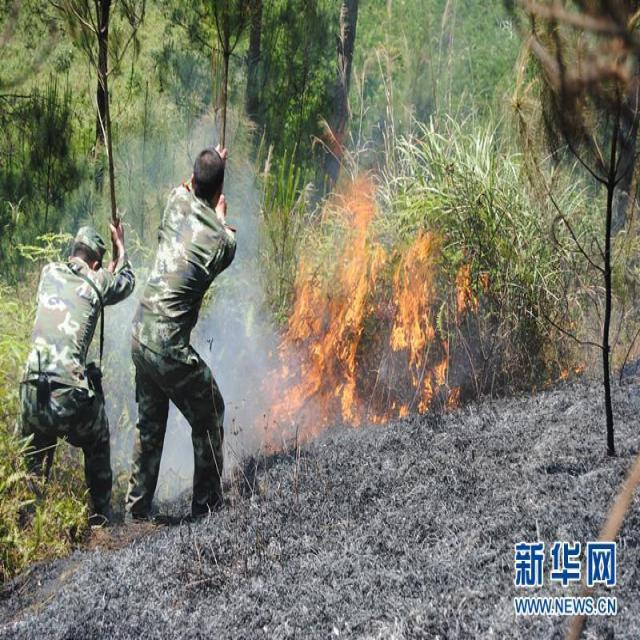fire: (263, 184, 506, 423)
